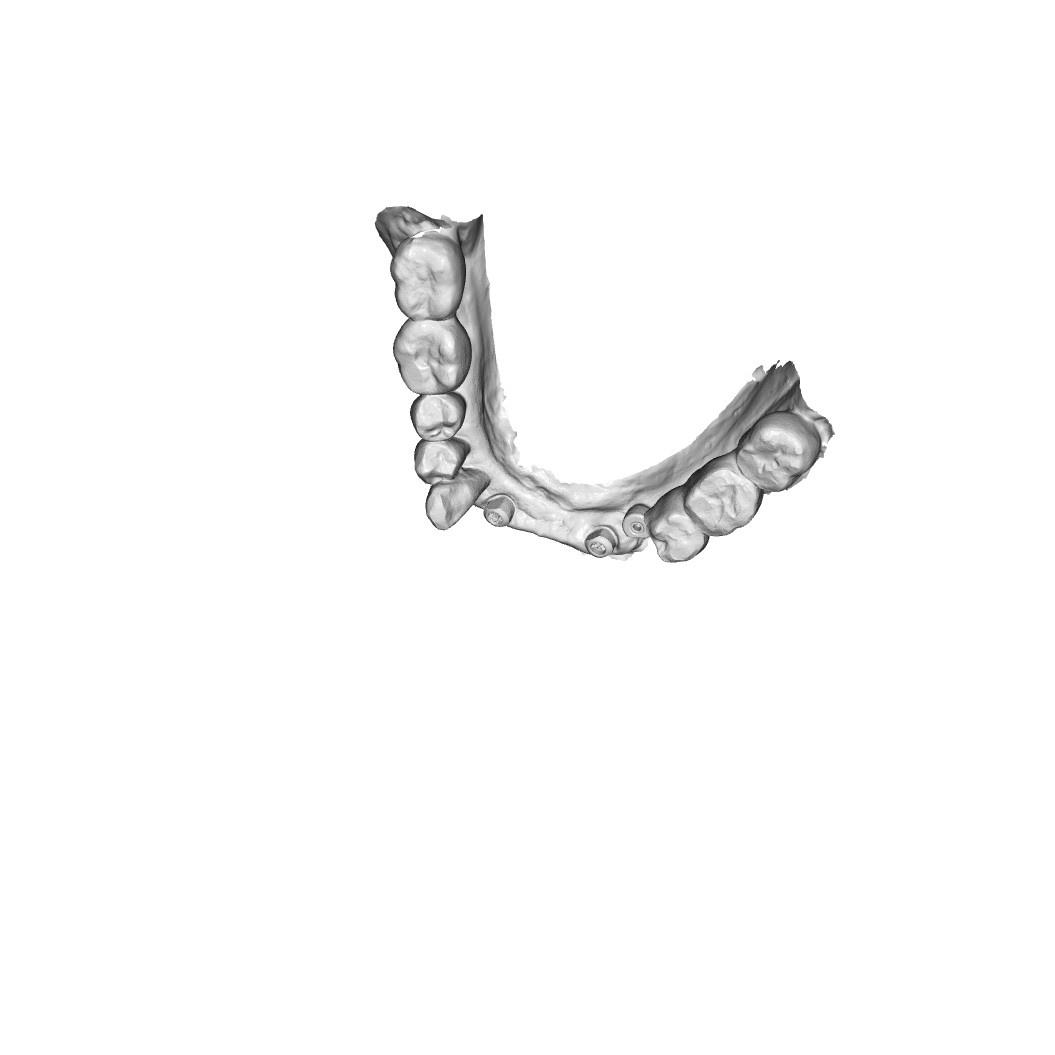canine: (426, 473, 487, 530)
implant: (479, 494, 518, 532), (619, 498, 654, 539), (582, 524, 619, 561)
molar: (736, 412, 819, 493), (388, 237, 468, 318), (393, 315, 467, 396), (691, 460, 757, 531), (646, 493, 710, 564)
premolar: (415, 432, 468, 484), (412, 391, 463, 442)
